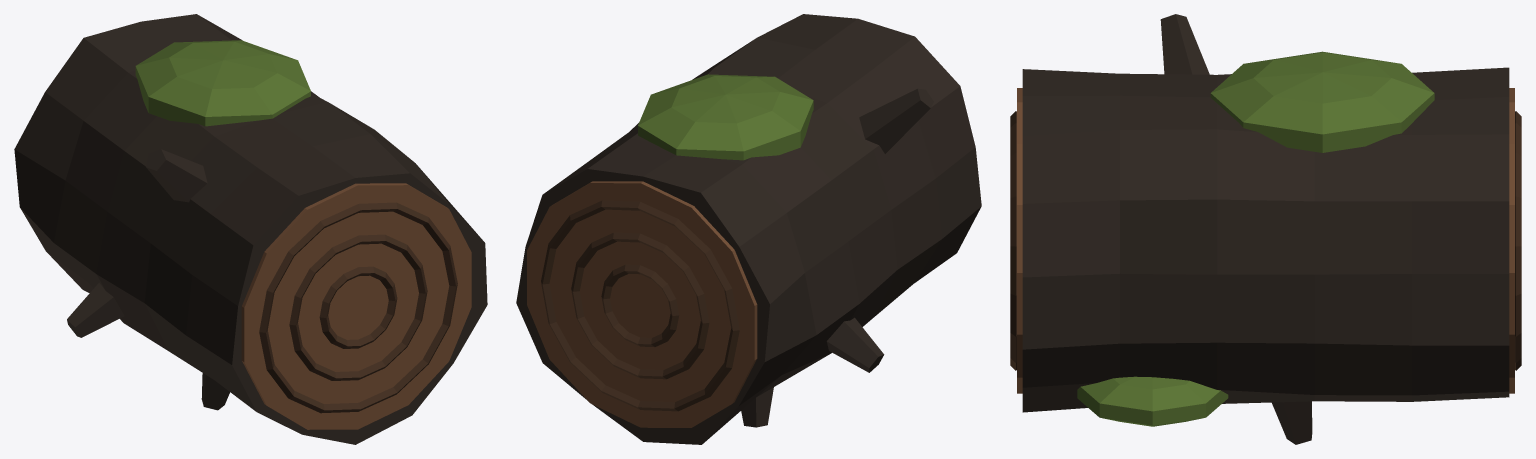
File: rolllog.glb
3 renders of one model, left to right at view 1: azimuth 30°, elevation 25°; view 2: azimuth 150°, elevation 25°; view 3: azimuth 270°, elevation 25°, orthographic. The views are drawn at different scales.
Visible parts, largest first — view 1: RollLog; view 2: RollLog; view 3: RollLog.
Part boxes in pixels (bbox=[...]): RollLog: bbox=[14, 14, 487, 444]; RollLog: bbox=[516, 14, 981, 444]; RollLog: bbox=[1010, 14, 1521, 444].
Size of the model in its own units: 0.6716 by 0.7377 by 0.904.
